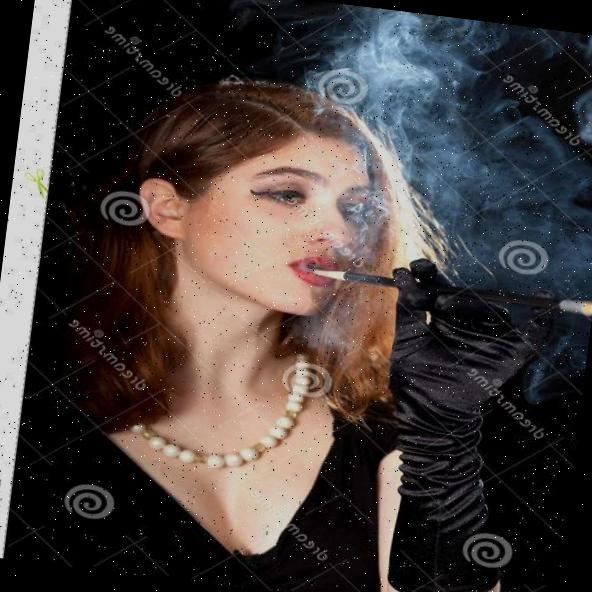smoke: (296, 135, 575, 370), (291, 6, 472, 143), (545, 34, 592, 152)
